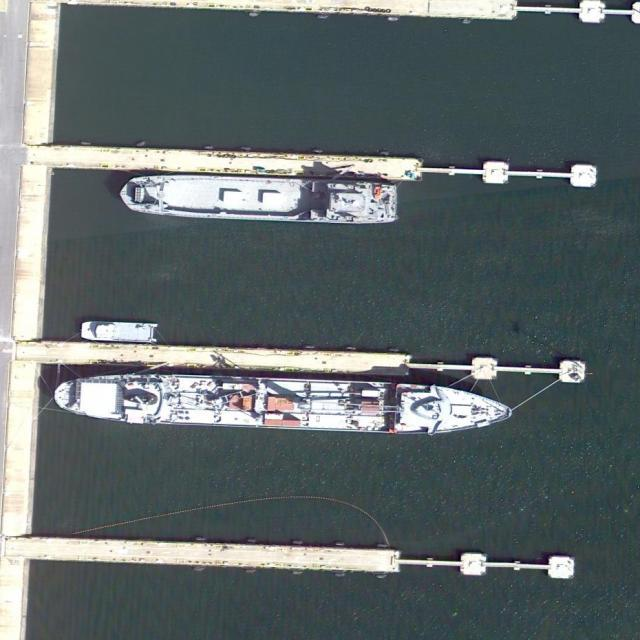Cargo: (52, 365, 515, 440), (118, 169, 401, 228)
Dock: (39, 337, 586, 384), (28, 533, 575, 580), (47, 143, 595, 189)
Other Warship: (81, 322, 159, 343)
